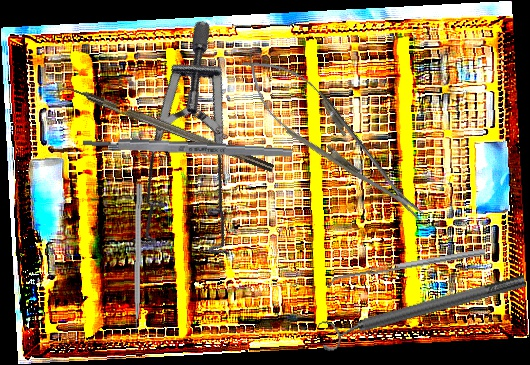Chopper: (52, 78, 275, 183), (125, 183, 142, 341)
Fixation Ring: (316, 265, 530, 354)
Needle Holder: (227, 39, 440, 239)
Scalpel Handle: (82, 136, 293, 160)
Spatula Surgical: (325, 248, 487, 289)
Speculum: (66, 15, 334, 293)
